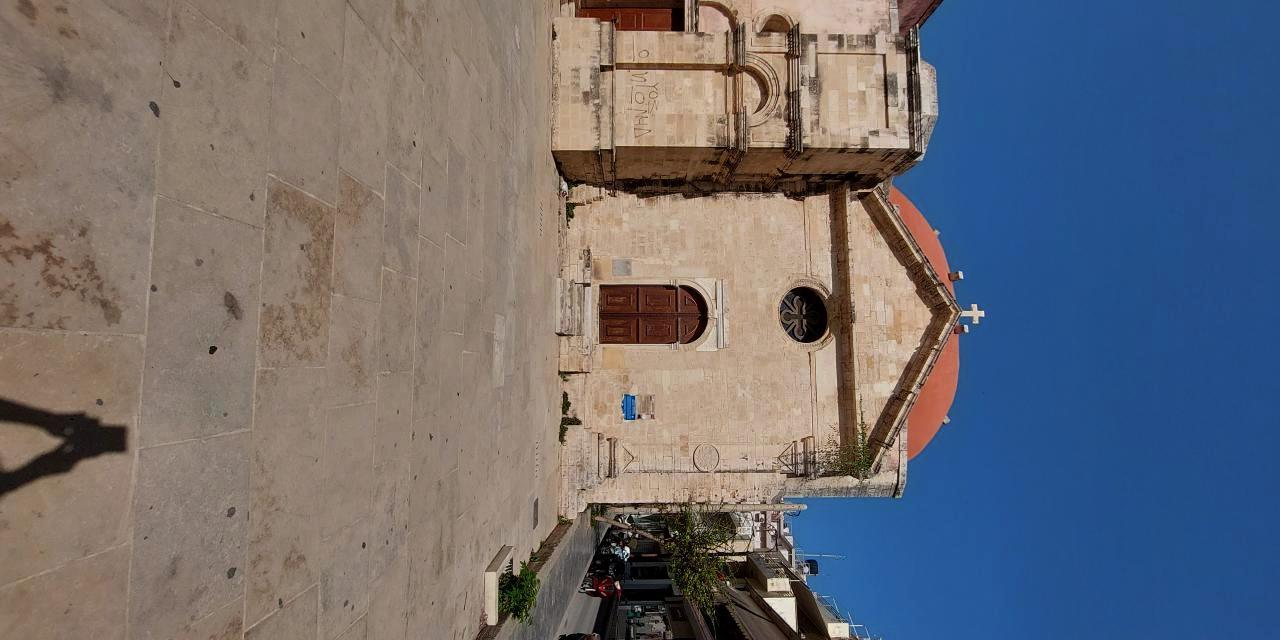Agia Aikaterini: (549, 190, 1002, 509)
